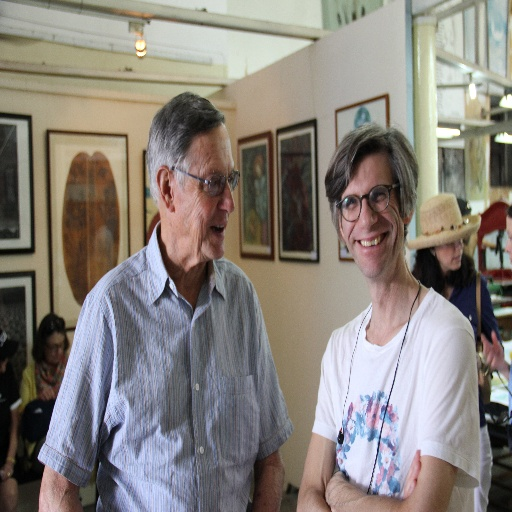hand: (396, 445, 421, 498), (480, 330, 504, 371), (323, 467, 345, 511), (38, 386, 56, 402), (0, 462, 13, 481)
